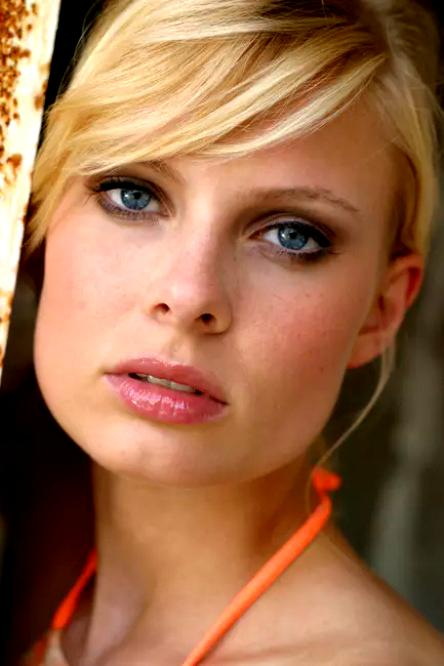face: (32, 67, 375, 491)
